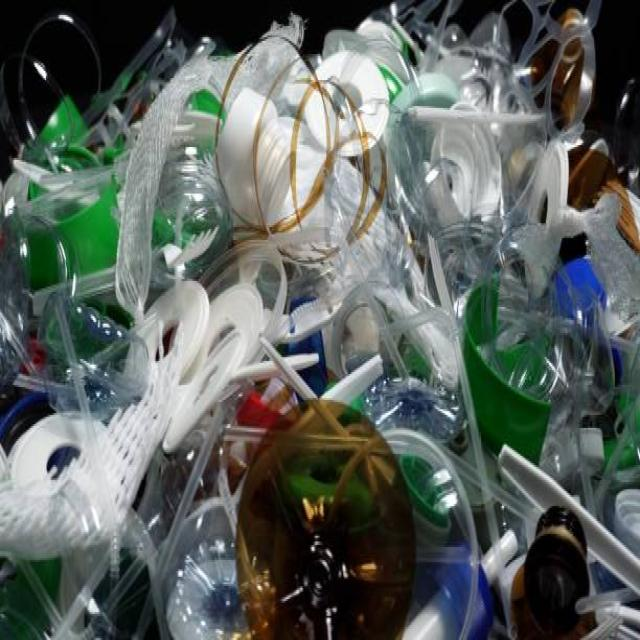plastic: (28, 44, 616, 594)
